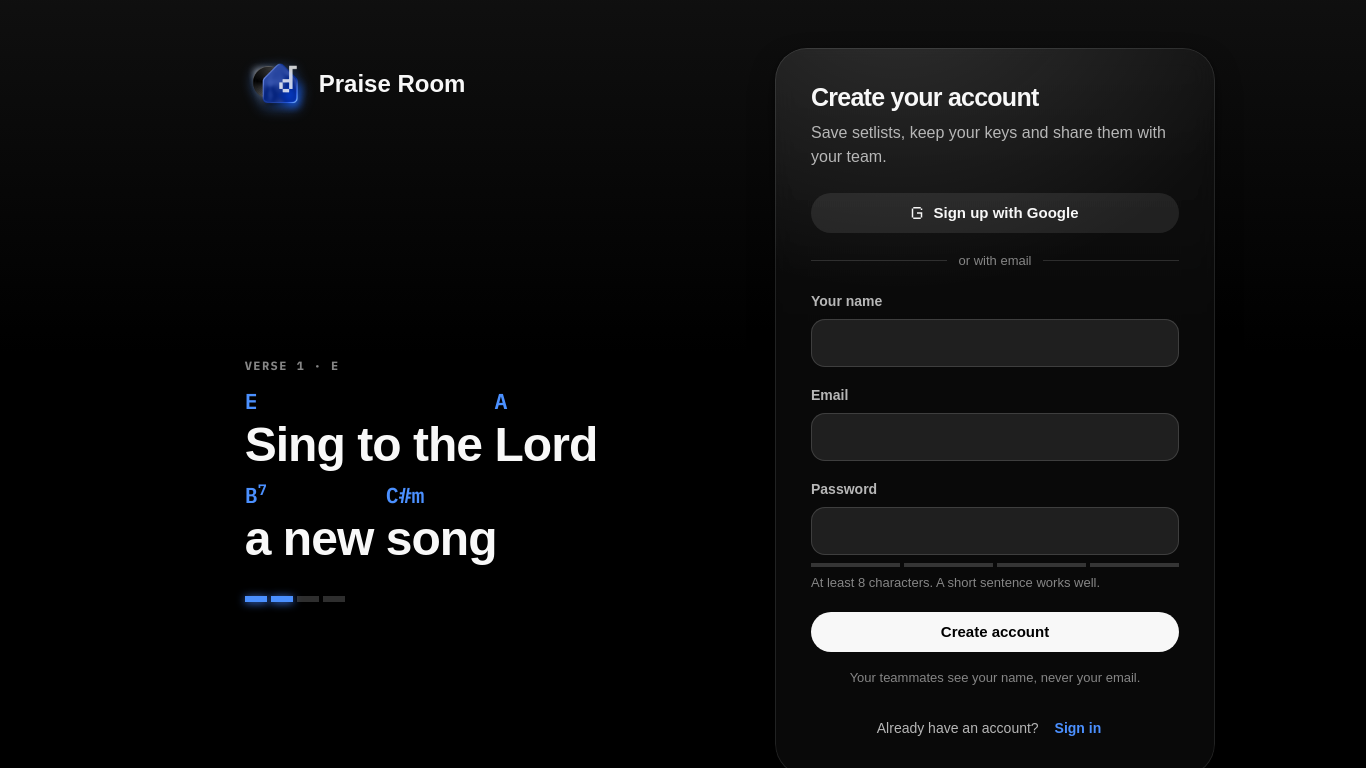
Scenario: SignUpPage › needs a name and a long enough password, and says teammates never see the email
Type "dummy@example.com" into the field labelled "Email" at (1000, 436), box [825, 412, 1175, 460]
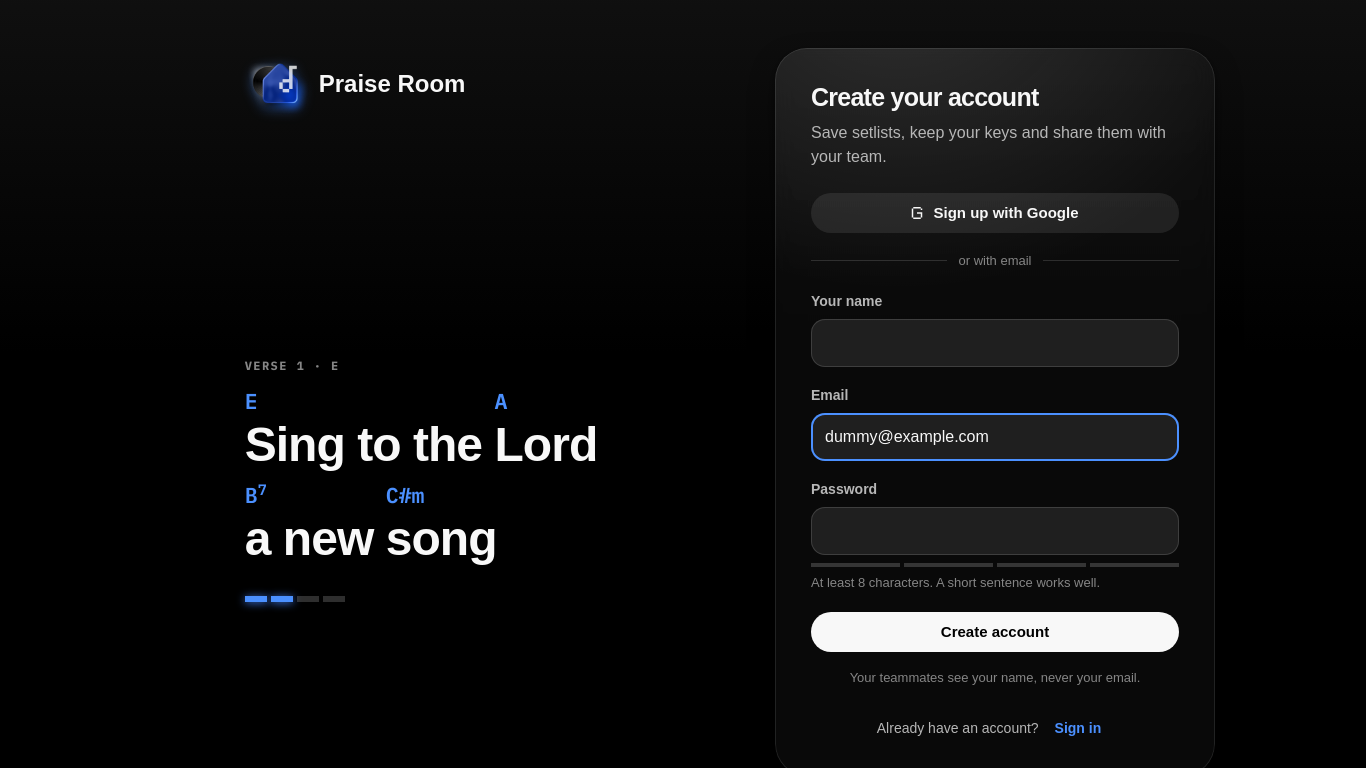
Type "short" into the password field labelled "Password" at (982, 530), box [825, 506, 1139, 554]
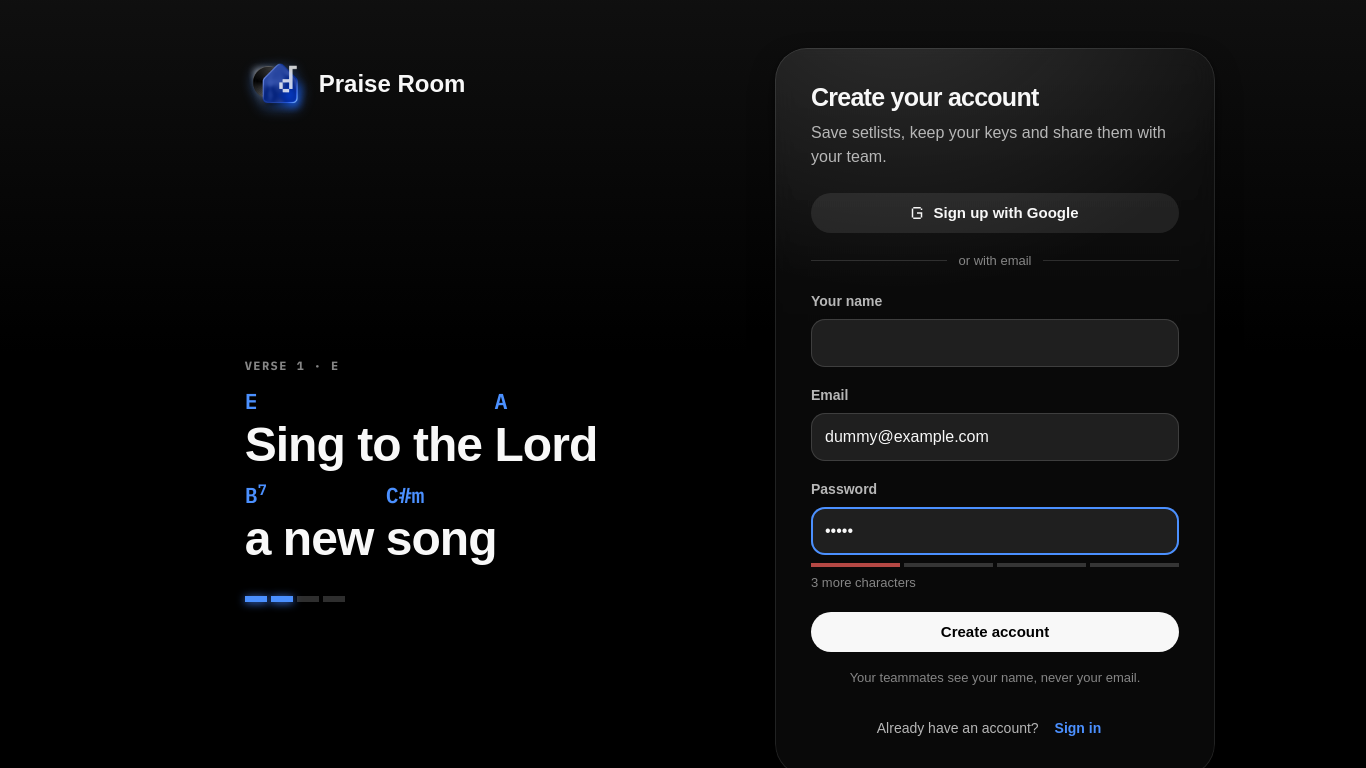
Click the button "Create account" at (995, 632), box [811, 612, 1179, 652]
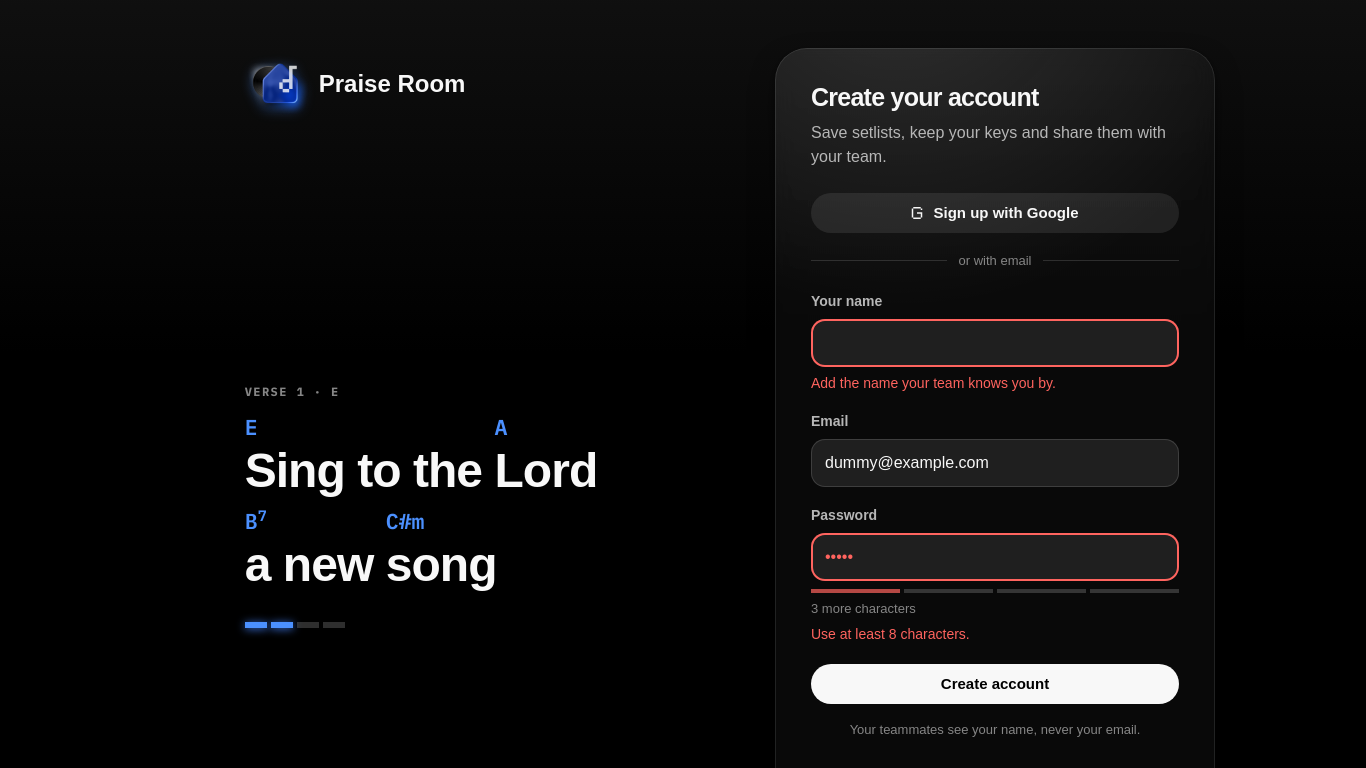
Expected: the text "Your teammates see your name, never your email." is shown, [850, 722, 1140, 737]
Expected: the text "Add the name your team knows you by." is shown, [811, 374, 1056, 390]
Expected: the text "Use at least 8 characters." is shown, [811, 626, 970, 642]
